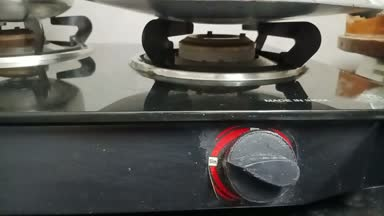noflame_gason: (130, 12, 349, 207)
